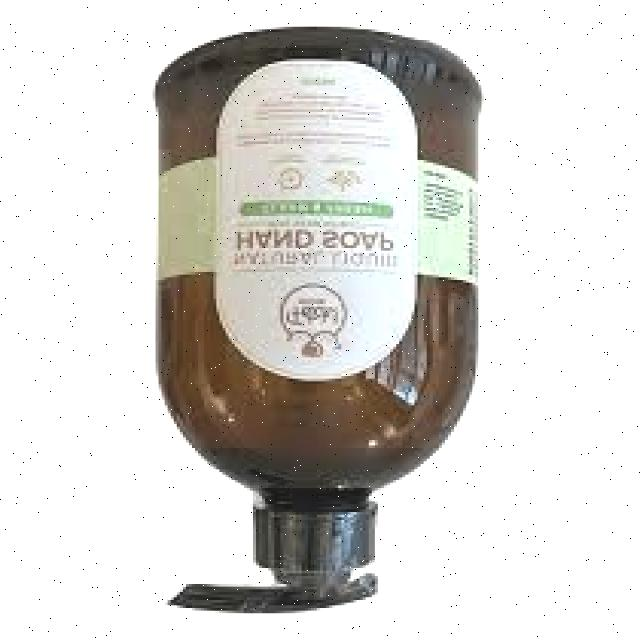liquid soap: (152, 19, 492, 611)
